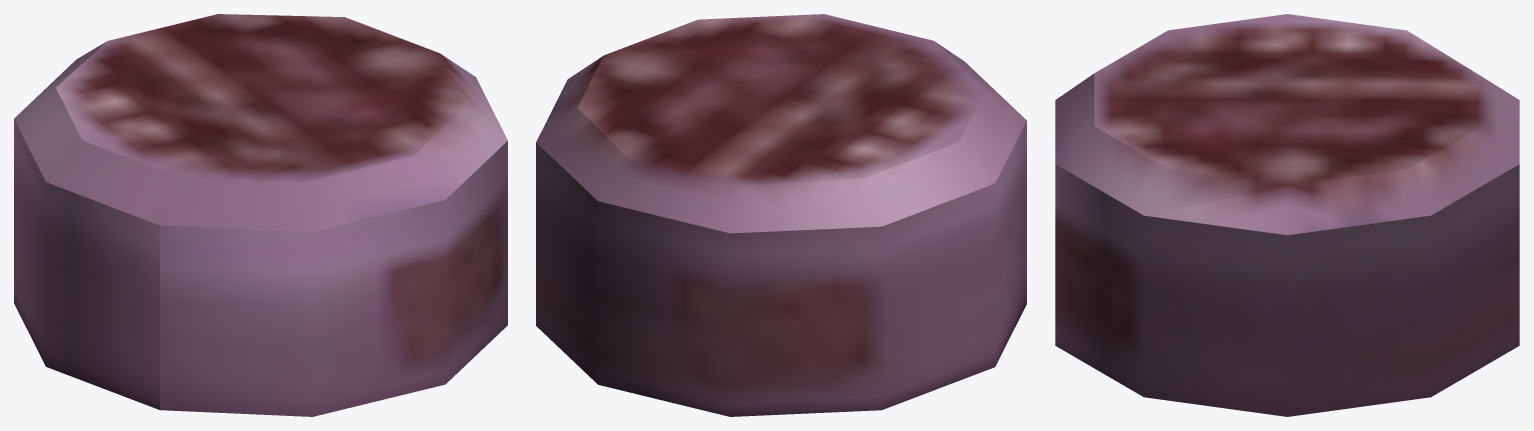
The model's file is lubricant.FBX.
3 renders of one model, left to right at view 1: azimuth 30°, elevation 25°; view 2: azimuth 150°, elevation 25°; view 3: azimuth 270°, elevation 25°, orthographic.
Parts seen in each view (by area): view 1: selfmade_bomb; view 2: selfmade_bomb; view 3: selfmade_bomb.
Part boxes in pixels (box(x1,y1,x2,y2)): selfmade_bomb: box(14, 14, 507, 416); selfmade_bomb: box(536, 14, 1026, 416); selfmade_bomb: box(1055, 14, 1519, 416).
Size of the model in its own units: 127 by 121 by 61.32.
